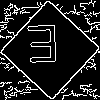E: (25, 25, 60, 72)
